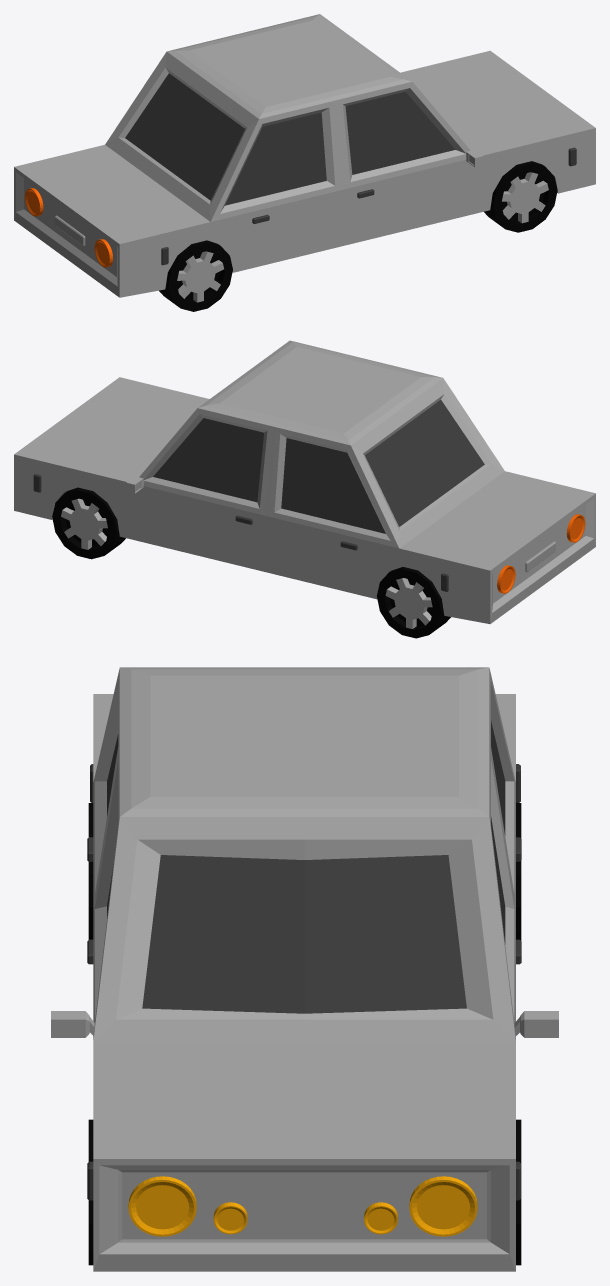
File: body_2.glb
3 renders of one model, top to bottom at view 1: azimuth 30°, elevation 25°; view 2: azimuth 150°, elevation 25°; view 3: azimuth 270°, elevation 25°, orthographic. The views are drawn at different scales.
Visible parts, largest first — view 1: BODY.008_BODY.010_0; view 2: BODY.008_BODY.010_0; view 3: BODY.008_BODY.010_0.
Boxes of the visible parts, <box> form: BODY.008_BODY.010_0: <box>14,14,595,311</box>; BODY.008_BODY.010_0: <box>14,340,595,638</box>; BODY.008_BODY.010_0: <box>51,667,558,1271</box>.
Size of the model in its own units: 0.6944 by 0.2399 by 0.3206.
1 material, 1 textured.
